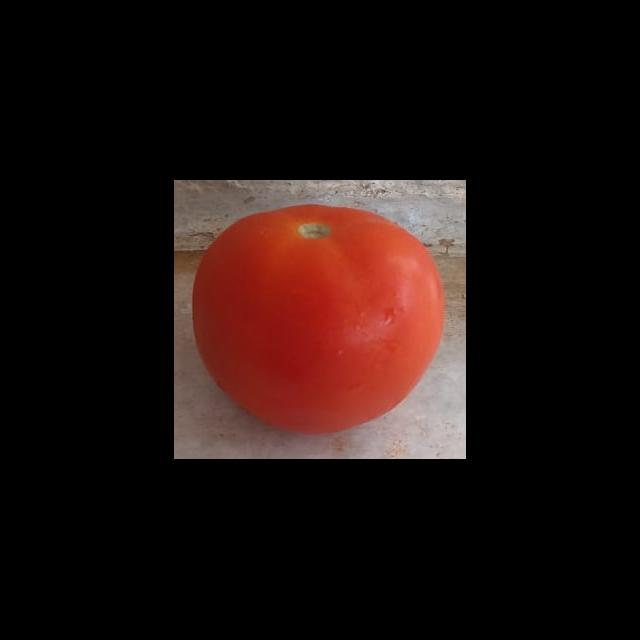tomato: (191, 195, 449, 445)
